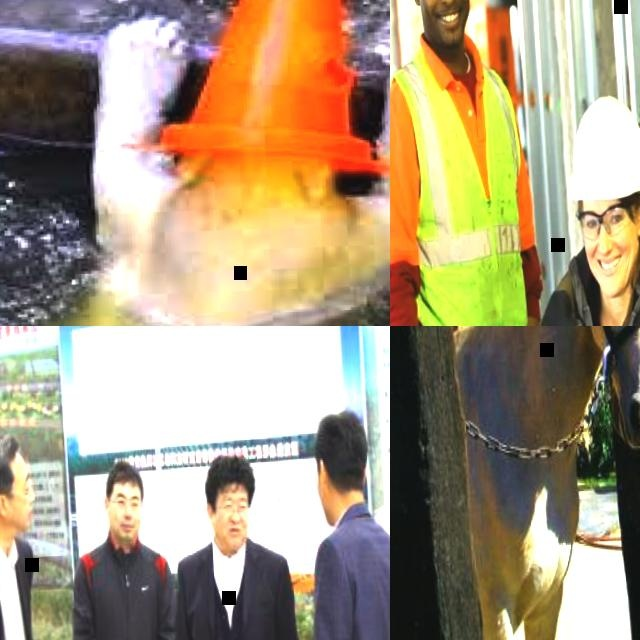Hardhat: (562, 88, 640, 206)
NO-Hardhat: (317, 409, 372, 461), (204, 451, 253, 492), (0, 432, 25, 483), (103, 459, 142, 490)
NO-Mask: (589, 245, 640, 297), (420, 3, 473, 53), (216, 519, 249, 550), (109, 514, 142, 545), (315, 484, 336, 524), (5, 502, 33, 531)
NO-Safety Vest: (182, 545, 289, 640), (320, 515, 390, 640), (84, 544, 169, 640), (0, 530, 43, 640)
Person: (390, 0, 557, 326), (491, 87, 640, 326), (165, 446, 316, 640), (61, 455, 195, 640), (297, 405, 390, 640)
Safety Cone: (159, 0, 390, 185)
Safety Vest: (390, 51, 531, 326)
